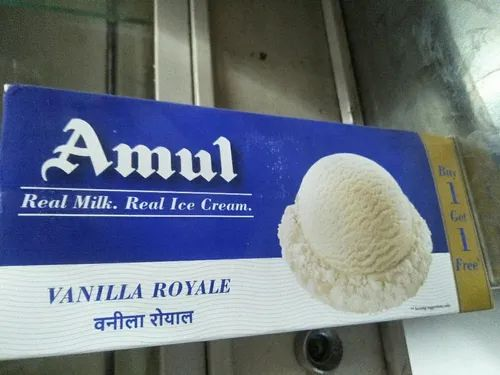Amul: (38, 112, 237, 183)
